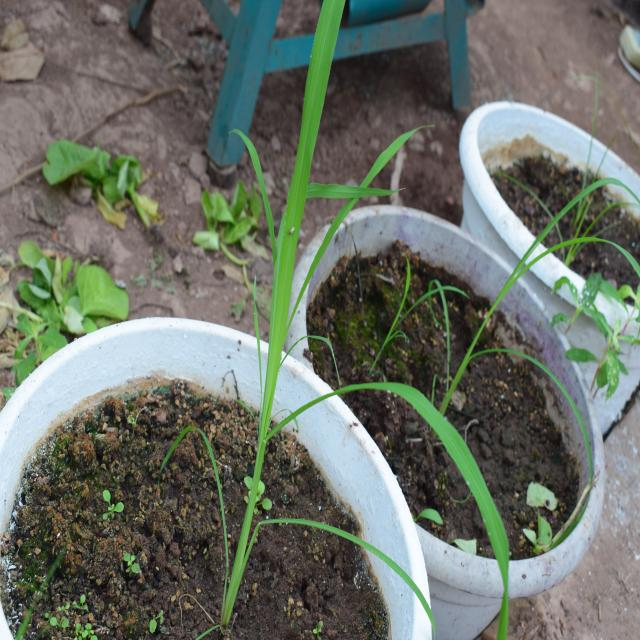barnyard_grass: (200, 14, 519, 584)
